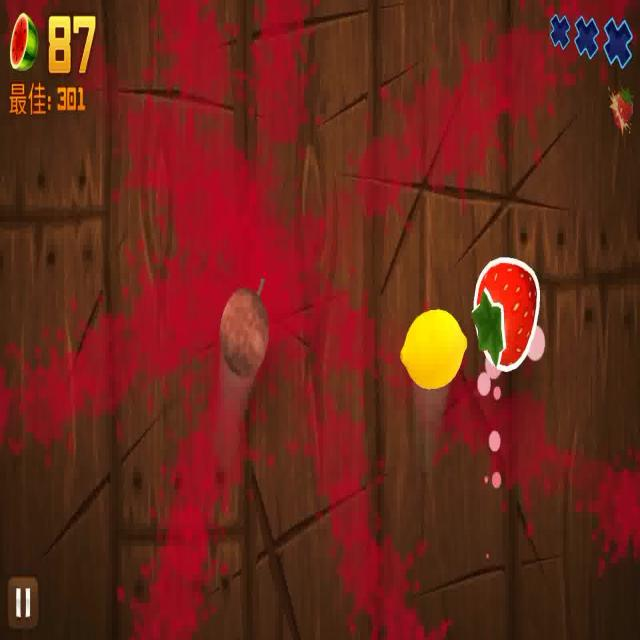fruit: (472, 257, 540, 373), (400, 309, 468, 392), (219, 276, 270, 380)
